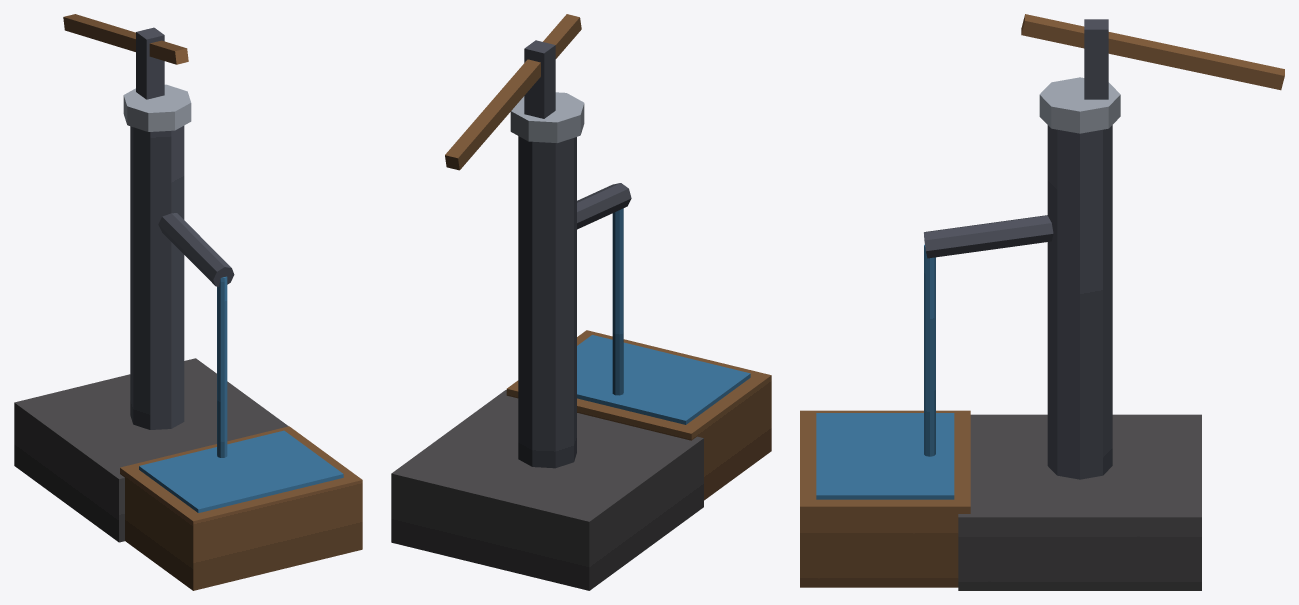
File: water_pump.glb
3 views of the same model, side by side, from view 1: azimuth 30°, elevation 25°; view 2: azimuth 150°, elevation 25°; view 3: azimuth 270°, elevation 25° (orthographic). The views are drawn at different scales.
Size of the model in its own units: 0.6 by 1.42 by 1.19.
Materials: 1 (1 with a texture image).
